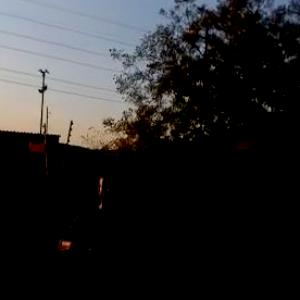follow: (50, 156, 142, 299)
